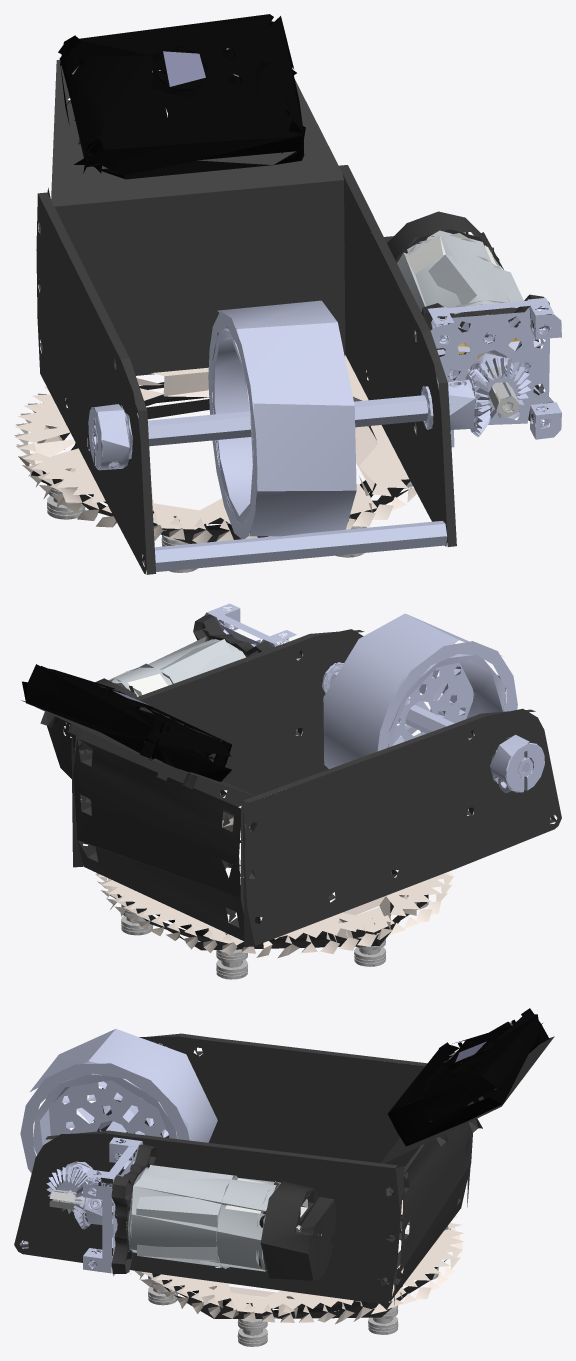
The picture shows the model from 3 angles, top to bottom: view 1: azimuth 30°, elevation 25°; view 2: azimuth 150°, elevation 25°; view 3: azimuth 270°, elevation 25°; orthographic projection. The views are drawn at different scales.
Parts seen in each view (by area): view 1: big; view 2: big; view 3: big.
Boxes of the visible parts, x1=… form: big: x1=14, y1=14, x2=561, y2=574; big: x1=21, y1=603, x2=561, y2=979; big: x1=14, y1=1008, x2=554, y2=1346.
Size of the model in its own units: 0.1792 by 0.1221 by 0.2196.
